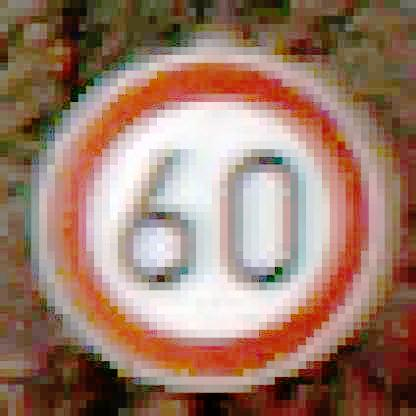Speed Limit -60-: (34, 45, 387, 389)
